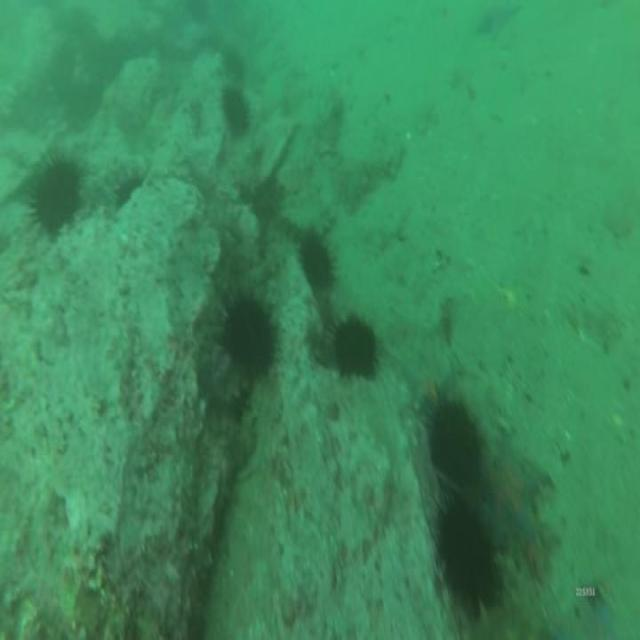echinus: (436, 498, 492, 596), (433, 404, 477, 484), (32, 160, 81, 226), (225, 299, 271, 365), (336, 319, 376, 373), (302, 232, 332, 292), (225, 90, 246, 131)
starfish: (489, 443, 539, 534), (409, 348, 448, 408), (578, 577, 615, 637)
